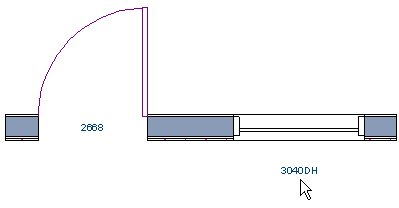window: (231, 95, 369, 157)
